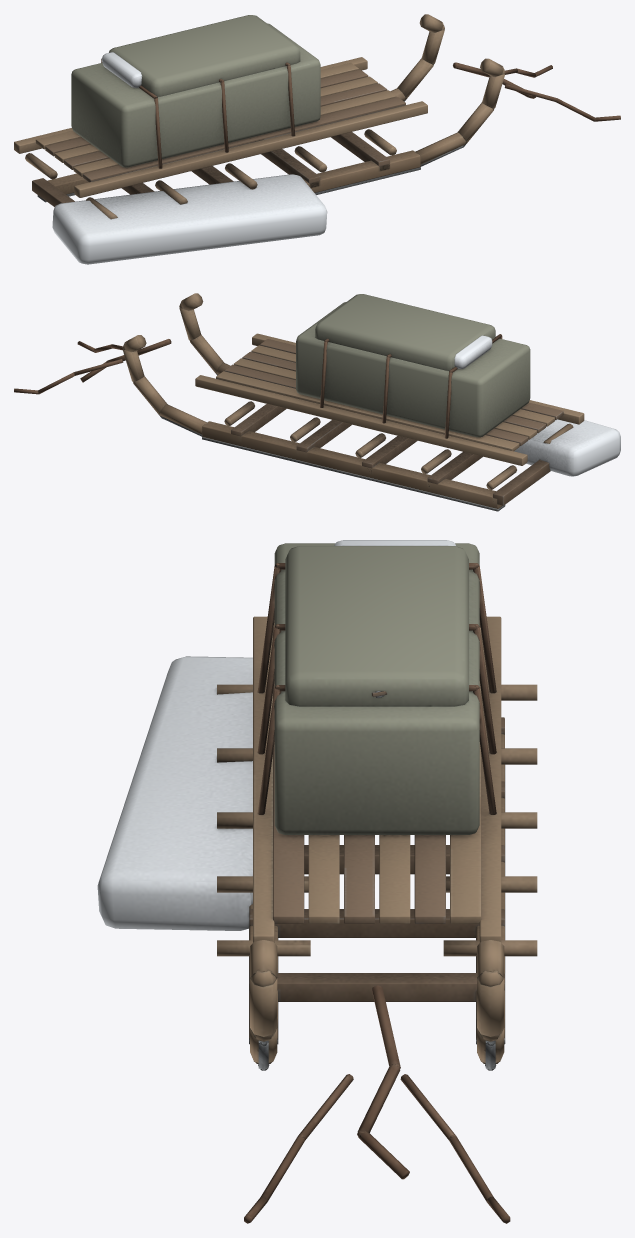
File: sled_semenov.glb
The picture shows the model from 3 angles, top to bottom: view 1: azimuth 30°, elevation 25°; view 2: azimuth 150°, elevation 25°; view 3: azimuth 270°, elevation 25°; orthographic projection. The views are drawn at different scales.
Parts seen in each view (by area): view 1: sled_semenov; view 2: sled_semenov; view 3: sled_semenov.
Part boxes in pixels (x1=…): sled_semenov: x1=14, y1=14, x2=620, y2=264; sled_semenov: x1=14, y1=293, x2=620, y2=511; sled_semenov: x1=97, y1=540, x2=537, y2=1223.
Bounding box in the file's own units: 3.37 × 0.8545 × 1.22.
Materials: 1 (1 with a texture image).
